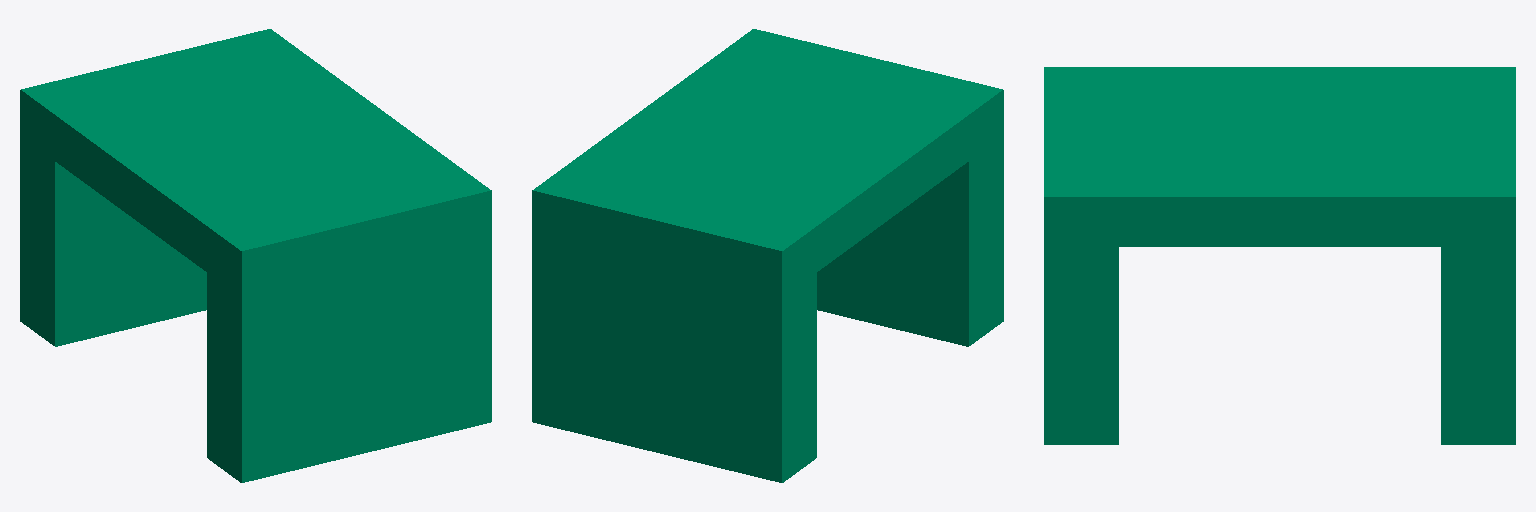
URDF robot description (partnet_c3bb5f3c842a6c2d178e7d331e641179):
<?xml version="1.0" ?>
<robot name="partnet_c3bb5f3c842a6c2d178e7d331e641179">
	<link name="base"/>
	<link name="link_0">
		<visual name="door_frame-6">
			<origin xyz="0.6430403380134146 0.42593899369239807 -0.5477944794777341"/>
			<geometry>
				<mesh filename="textured_objs/original-1.obj"/>
			</geometry>
		</visual>
		<visual name="door_frame-6">
			<origin xyz="0.6430403380134146 0.42593899369239807 -0.5477944794777341"/>
			<geometry>
				<mesh filename="textured_objs/original-8.obj"/>
			</geometry>
		</visual>
		<visual name="door_frame-6">
			<origin xyz="0.6430403380134146 0.42593899369239807 -0.5477944794777341"/>
			<geometry>
				<mesh filename="textured_objs/original-16.obj"/>
			</geometry>
		</visual>
		<visual name="door_frame-6">
			<origin xyz="0.6430403380134146 0.42593899369239807 -0.5477944794777341"/>
			<geometry>
				<mesh filename="textured_objs/original-9.obj"/>
			</geometry>
		</visual>
		<visual name="door_frame-6">
			<origin xyz="0.6430403380134146 0.42593899369239807 -0.5477944794777341"/>
			<geometry>
				<mesh filename="textured_objs/original-10.obj"/>
			</geometry>
		</visual>
		<visual name="door_frame-6">
			<origin xyz="0.6430403380134146 0.42593899369239807 -0.5477944794777341"/>
			<geometry>
				<mesh filename="textured_objs/original-11.obj"/>
			</geometry>
		</visual>
		<visual name="door_frame-6">
			<origin xyz="0.6430403380134146 0.42593899369239807 -0.5477944794777341"/>
			<geometry>
				<mesh filename="textured_objs/original-12.obj"/>
			</geometry>
		</visual>
		<visual name="door_frame-6">
			<origin xyz="0.6430403380134146 0.42593899369239807 -0.5477944794777341"/>
			<geometry>
				<mesh filename="textured_objs/original-13.obj"/>
			</geometry>
		</visual>
		<visual name="door_frame-6">
			<origin xyz="0.6430403380134146 0.42593899369239807 -0.5477944794777341"/>
			<geometry>
				<mesh filename="textured_objs/original-14.obj"/>
			</geometry>
		</visual>
		<visual name="door_frame-6">
			<origin xyz="0.6430403380134146 0.42593899369239807 -0.5477944794777341"/>
			<geometry>
				<mesh filename="textured_objs/original-15.obj"/>
			</geometry>
		</visual>
		<visual name="door_frame-6">
			<origin xyz="0.6430403380134146 0.42593899369239807 -0.5477944794777341"/>
			<geometry>
				<mesh filename="textured_objs/original-3.obj"/>
			</geometry>
		</visual>
		<visual name="glass-7">
			<origin xyz="0.6430403380134146 0.42593899369239807 -0.5477944794777341"/>
			<geometry>
				<mesh filename="textured_objs/original-6.obj"/>
			</geometry>
		</visual>
		<visual name="handle-8">
			<origin xyz="0.6430403380134146 0.42593899369239807 -0.5477944794777341"/>
			<geometry>
				<mesh filename="textured_objs/original-18.obj"/>
			</geometry>
		</visual>
		<visual name="handle-8">
			<origin xyz="0.6430403380134146 0.42593899369239807 -0.5477944794777341"/>
			<geometry>
				<mesh filename="textured_objs/original-20.obj"/>
			</geometry>
		</visual>
		<visual name="handle-8">
			<origin xyz="0.6430403380134146 0.42593899369239807 -0.5477944794777341"/>
			<geometry>
				<mesh filename="textured_objs/original-19.obj"/>
			</geometry>
		</visual>
		<collision>
			<origin xyz="0.6430403380134146 0.42593899369239807 -0.5477944794777341"/>
			<geometry>
				<mesh filename="textured_objs/original-1.obj"/>
			</geometry>
		</collision>
		<collision>
			<origin xyz="0.6430403380134146 0.42593899369239807 -0.5477944794777341"/>
			<geometry>
				<mesh filename="textured_objs/original-8.obj"/>
			</geometry>
		</collision>
		<collision>
			<origin xyz="0.6430403380134146 0.42593899369239807 -0.5477944794777341"/>
			<geometry>
				<mesh filename="textured_objs/original-16.obj"/>
			</geometry>
		</collision>
		<collision>
			<origin xyz="0.6430403380134146 0.42593899369239807 -0.5477944794777341"/>
			<geometry>
				<mesh filename="textured_objs/original-9.obj"/>
			</geometry>
		</collision>
		<collision>
			<origin xyz="0.6430403380134146 0.42593899369239807 -0.5477944794777341"/>
			<geometry>
				<mesh filename="textured_objs/original-10.obj"/>
			</geometry>
		</collision>
		<collision>
			<origin xyz="0.6430403380134146 0.42593899369239807 -0.5477944794777341"/>
			<geometry>
				<mesh filename="textured_objs/original-11.obj"/>
			</geometry>
		</collision>
		<collision>
			<origin xyz="0.6430403380134146 0.42593899369239807 -0.5477944794777341"/>
			<geometry>
				<mesh filename="textured_objs/original-12.obj"/>
			</geometry>
		</collision>
		<collision>
			<origin xyz="0.6430403380134146 0.42593899369239807 -0.5477944794777341"/>
			<geometry>
				<mesh filename="textured_objs/original-13.obj"/>
			</geometry>
		</collision>
		<collision>
			<origin xyz="0.6430403380134146 0.42593899369239807 -0.5477944794777341"/>
			<geometry>
				<mesh filename="textured_objs/original-14.obj"/>
			</geometry>
		</collision>
		<collision>
			<origin xyz="0.6430403380134146 0.42593899369239807 -0.5477944794777341"/>
			<geometry>
				<mesh filename="textured_objs/original-15.obj"/>
			</geometry>
		</collision>
		<collision>
			<origin xyz="0.6430403380134146 0.42593899369239807 -0.5477944794777341"/>
			<geometry>
				<mesh filename="textured_objs/original-3.obj"/>
			</geometry>
		</collision>
		<collision>
			<origin xyz="0.6430403380134146 0.42593899369239807 -0.5477944794777341"/>
			<geometry>
				<mesh filename="textured_objs/original-6.obj"/>
			</geometry>
		</collision>
		<collision>
			<origin xyz="0.6430403380134146 0.42593899369239807 -0.5477944794777341"/>
			<geometry>
				<mesh filename="textured_objs/original-18.obj"/>
			</geometry>
		</collision>
		<collision>
			<origin xyz="0.6430403380134146 0.42593899369239807 -0.5477944794777341"/>
			<geometry>
				<mesh filename="textured_objs/original-20.obj"/>
			</geometry>
		</collision>
		<collision>
			<origin xyz="0.6430403380134146 0.42593899369239807 -0.5477944794777341"/>
			<geometry>
				<mesh filename="textured_objs/original-19.obj"/>
			</geometry>
		</collision>
	</link>
	<joint name="door" type="revolute">
    	<safety_controller k_position="100.0" k_velocity="40.0" soft_lower_limit="0" soft_upper_limit="3.14159265359"/>
		<dynamics damping="10.0"/>
		<limit effort="12" lower="0" upper="3.14159265359" velocity="2.6100"/>
		<origin xyz="-0.6430403380134146 -0.42593899369239807 0.5477944794777341"/>
		<axis xyz="0 -1 0"/>
		<child link="link_0"/>
		<parent link="link_1"/>
	</joint>
	<link name="link_1">
		<visual name="frame-2">
			<origin xyz="0 0 0"/>
			<geometry>
				<mesh filename="textured_objs/original-4.obj"/>
			</geometry>
		</visual>
		<visual name="dumbwaiter">
			<origin xyz="0 0 0"/>
			<geometry>
				<mesh filename="textured_objs/dumbwaiter.obj"/>
			</geometry>
		</visual>
		<visual name="frame-2">
			<origin xyz="0 0 0"/>
			<geometry>
				<mesh filename="textured_objs/original-2.obj"/>
			</geometry>
		</visual>
		<visual name="display_panel-5">
			<origin xyz="0 0 0"/>
			<geometry>
				<mesh filename="textured_objs/original-5.obj"/>
			</geometry>
		</visual>
		<collision>
			<origin xyz="0 0 0"/>
			<geometry>
				<mesh filename="textured_objs/original-4.obj"/>
			</geometry>
		</collision>
		<collision>
			<origin xyz="0 0 0"/>
			<geometry>
				<mesh filename="textured_objs/original-2.obj"/>
			</geometry>
		</collision>
		<collision>
			<origin xyz="0 0 0"/>
			<geometry>
				<mesh filename="textured_objs/original-5.obj"/>
			</geometry>
		</collision>
	</link>
	<joint name="joint_1" type="fixed">
		<origin rpy="1.570796326794897 0 -1.570796326794897" xyz="0 0 0"/>
		<child link="link_1"/>
		<parent link="base"/>
	</joint>
</robot>

--- What the picture shows (computed from the rendered views, not written in the file) ---
Views: 3 orthographic renders of the robot side by side, from view 1: azimuth 30°, elevation 25°; view 2: azimuth 150°, elevation 25°; view 3: azimuth 270°, elevation 25°.
Model partnet_c3bb5f3c842a6c2d178e7d331e641179 with 3 links and 2 joints (1 revolute, 1 fixed), rooted at base, posed all joints at 0.
Links seen in each view (by area): view 1: link_1; view 2: link_1; view 3: link_1.
Link boxes in pixels (bbox=[...]): link_1: bbox=[20, 29, 491, 482]; link_1: bbox=[532, 29, 1003, 482]; link_1: bbox=[1044, 67, 1515, 444].
Size in the robot's own frame: 1.24 by 1.9 by 1.1 metres.
1 mesh visuals loaded from 19 distinct referenced files (1 OBJ); not drawn: 18 (reference not matched to a file when rendering).